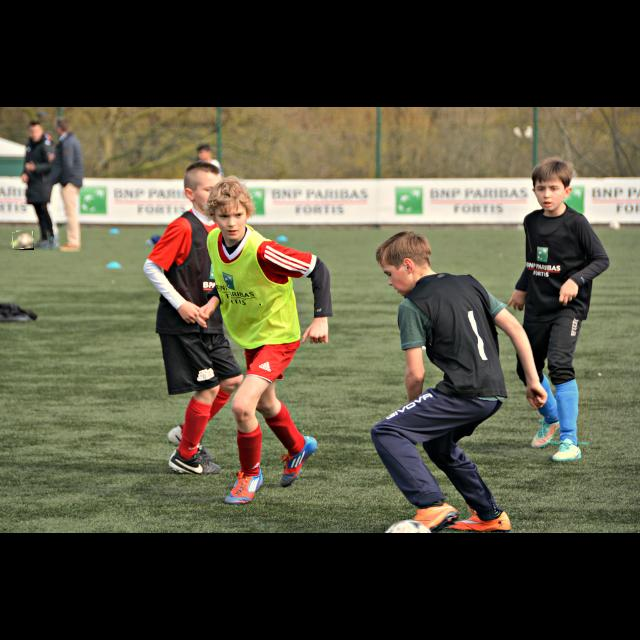Football: (384, 520, 430, 532), (12, 230, 34, 250)
